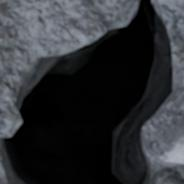broken_brick: (0, 0, 134, 136), (144, 0, 183, 166)
crack: (0, 0, 181, 183)
